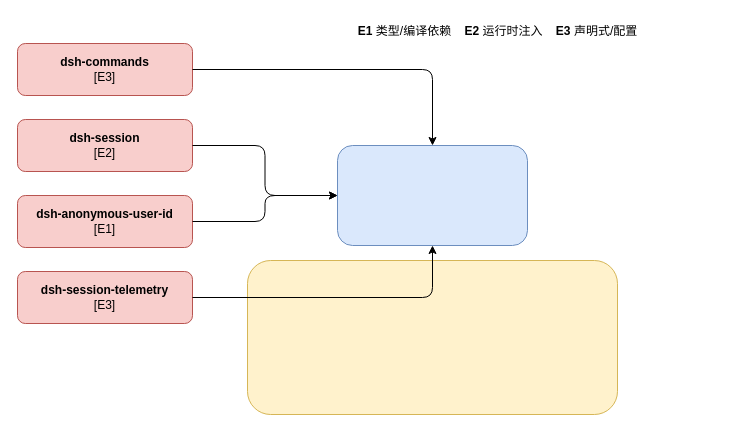
This 735x432 diagram has some shape labels left out. The centre of each missing label's shape, as x and y in pixels:
"dsh-command-feedback G10 命令交互" goes at point (432, 195).
"provides · /feedback 命令 · session 事件 feedback/record · recordFeedback()" goes at point (432, 337).
